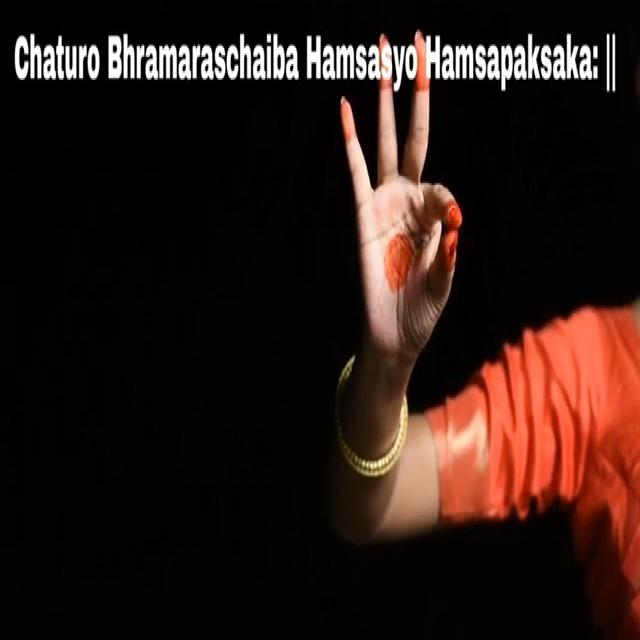Hamsasya: (333, 85, 481, 362)
bangle: (314, 368, 416, 482)
text: (10, 14, 621, 104)
